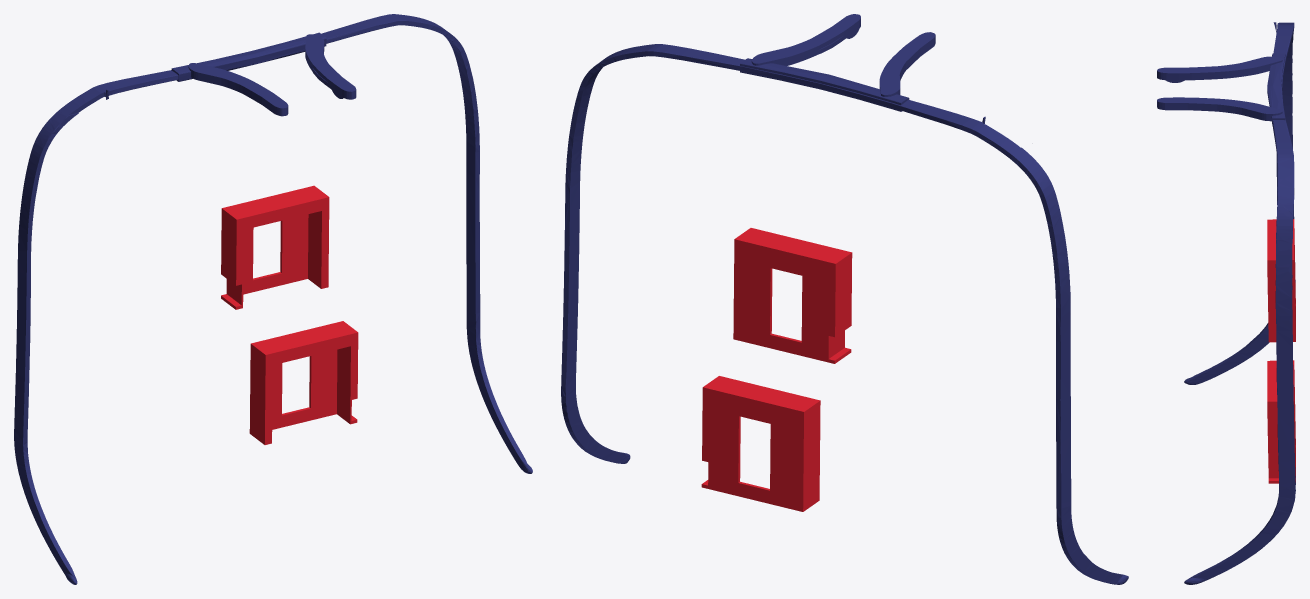
Rendered from tinker.obj.
3 renders of one model, left to right at view 1: azimuth 30°, elevation 25°; view 2: azimuth 150°, elevation 25°; view 3: azimuth 270°, elevation 25°, orthographic. The views are drawn at different scales.
Visible parts, largest first — view 1: group_0_3356795, group_0_15277357; view 2: group_0_3356795, group_0_15277357; view 3: group_0_3356795, group_0_15277357.
Part boxes in pixels (bbox=[...]): group_0_3356795: bbox=[14, 14, 532, 584]; group_0_15277357: bbox=[221, 185, 358, 444]; group_0_3356795: bbox=[561, 14, 1128, 584]; group_0_15277357: bbox=[701, 228, 852, 511]; group_0_3356795: bbox=[1157, 22, 1295, 584]; group_0_15277357: bbox=[1267, 219, 1295, 483].
Size of the model in its own units: 159 by 146 by 46.
